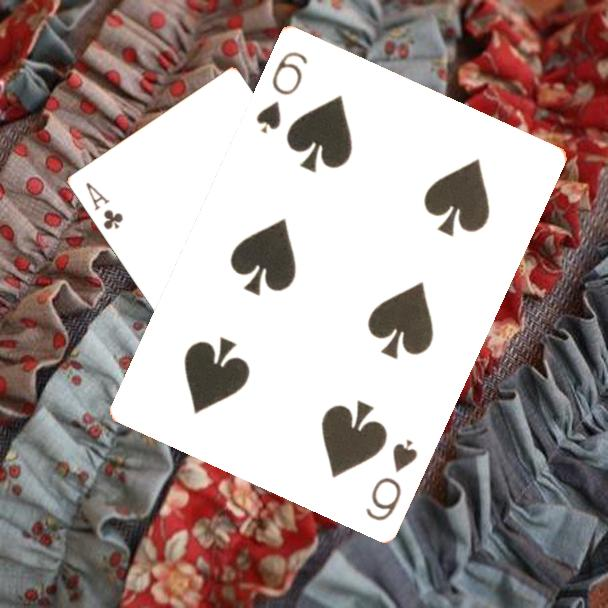c01: (82, 179, 126, 233)
s06: (252, 47, 311, 136), (362, 434, 421, 523)
